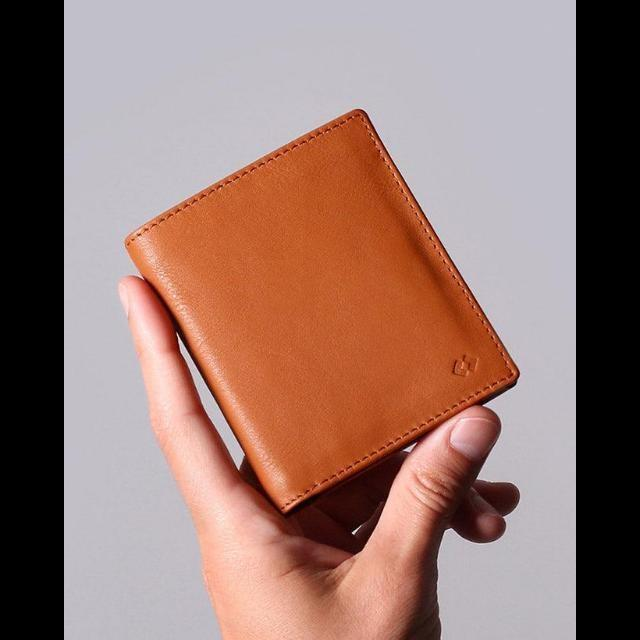Wallet: (126, 110, 518, 514)
